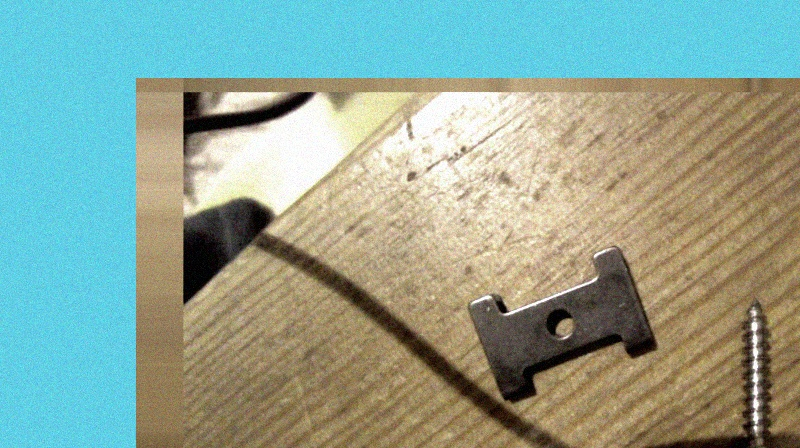O002: (464, 241, 658, 403)
S001: (731, 296, 791, 447)
